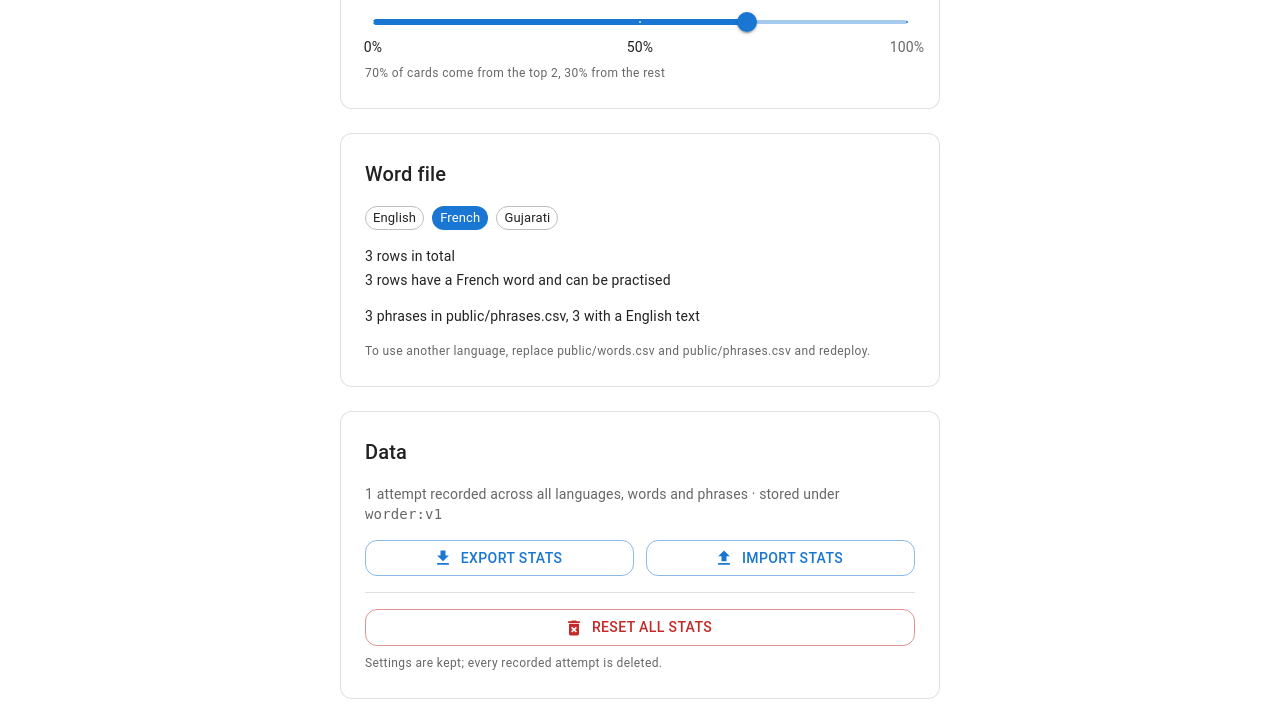
Scenario: SettingsPage › resets stats through the confirm dialog
(page scrolled)
Click the button "Reset all stats" at (640, 628), box x1=365 y1=609 x2=915 y2=646
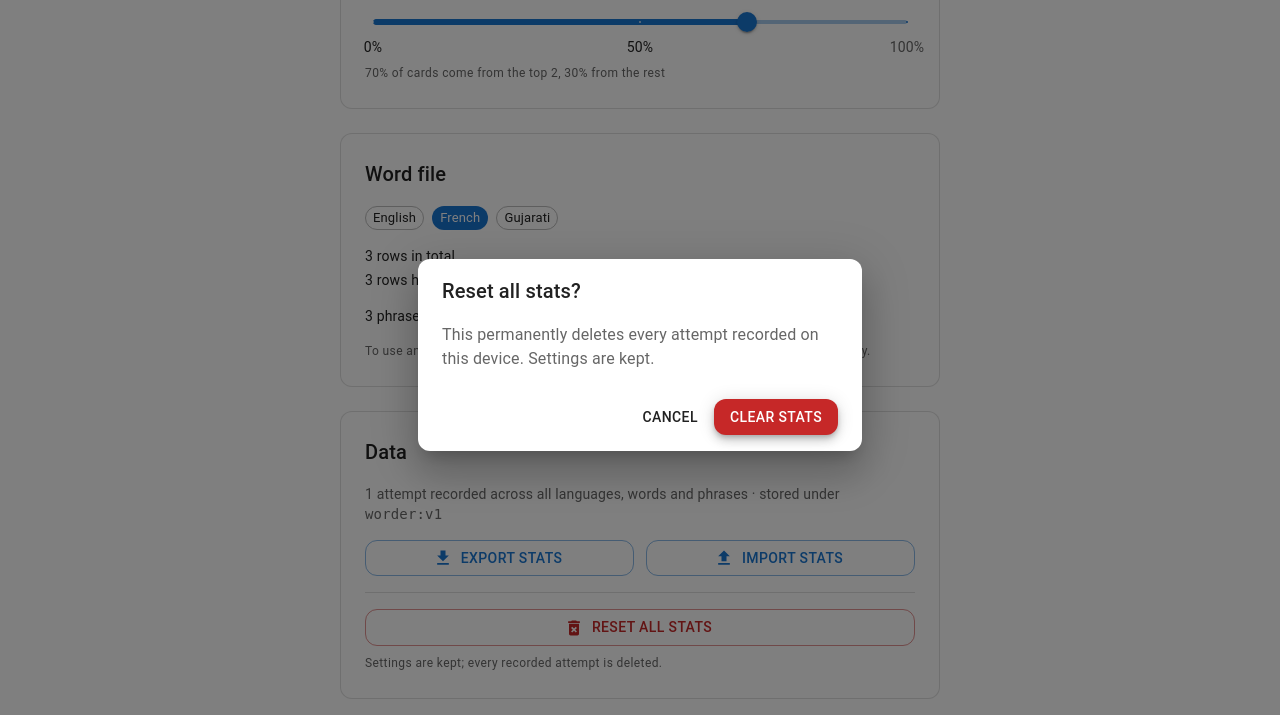
Expected: the dialog shows "This permanently deletes every attempt recorded", x1=442 y1=325 x2=819 y2=368
Click the button "Clear stats" at (776, 417), box x1=714 y1=399 x2=838 y2=435
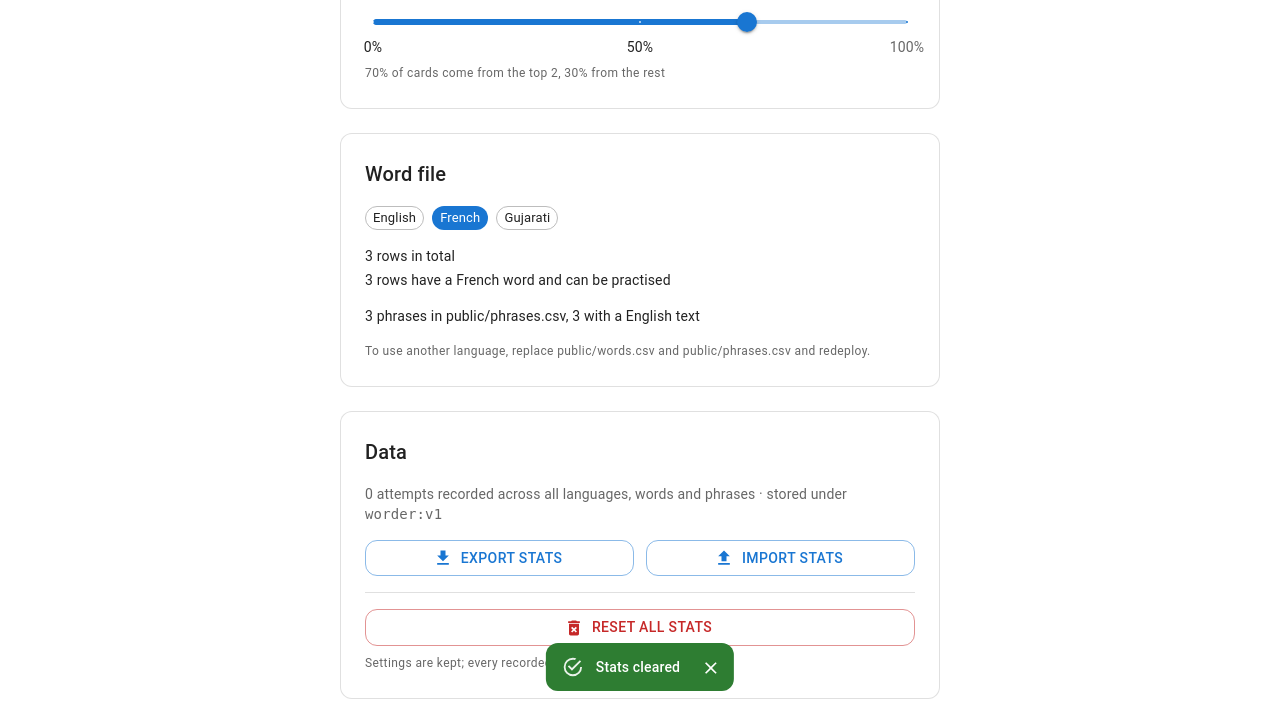
Expected: the text "Stats cleared" is shown, x1=596 y1=659 x2=680 y2=675
